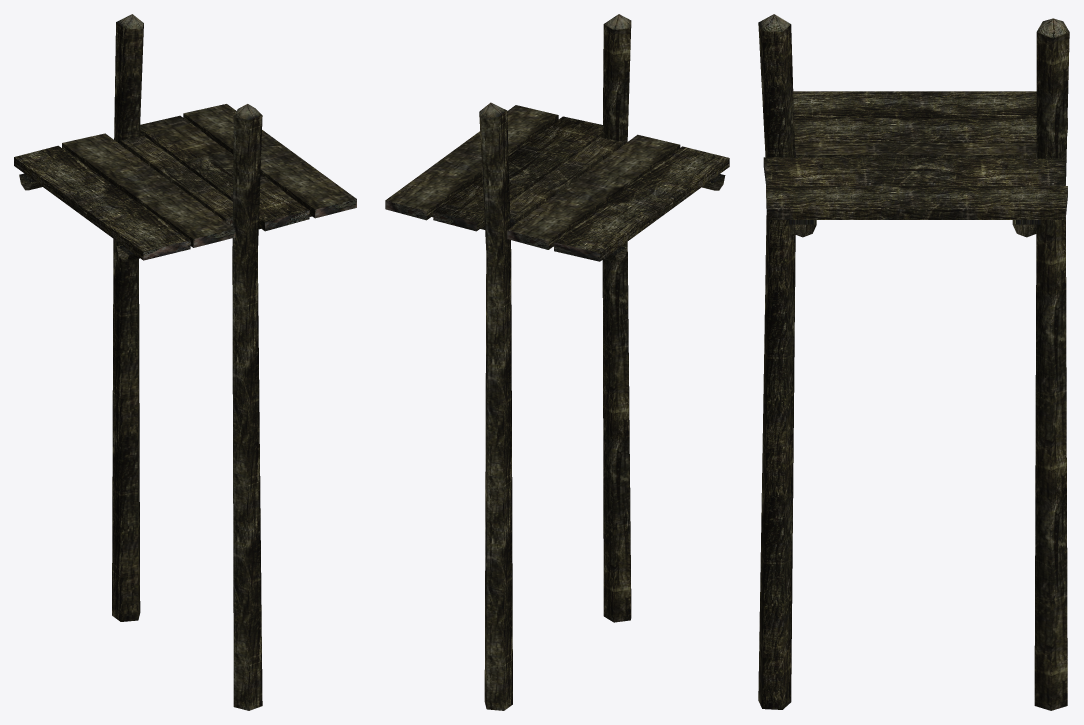
Rendered from ex_common_plat_cent.obj.
The picture shows the model from 3 angles, left to right: view 1: azimuth 30°, elevation 25°; view 2: azimuth 150°, elevation 25°; view 3: azimuth 270°, elevation 25°; orthographic projection. The views are drawn at different scales.
Parts seen in each view (by area): view 1: nifid_16-matrix_Tri_Ex_common_plat_Cent_3-lib, nifid_21-matrix_Tri_Ex_common_plat_Cent_4-lib, nifid_11-matrix_Tri_Ex_common_plat_Cent_2-lib; view 2: nifid_16-matrix_Tri_Ex_common_plat_Cent_3-lib, nifid_21-matrix_Tri_Ex_common_plat_Cent_4-lib, nifid_11-matrix_Tri_Ex_common_plat_Cent_2-lib; view 3: nifid_16-matrix_Tri_Ex_common_plat_Cent_3-lib, nifid_11-matrix_Tri_Ex_common_plat_Cent_2-lib, nifid_6-matrix_Tri_Ex_common_plat_Cent_1-lib.
Part boxes in pixels (x1,y1,x2,y2): nifid_16-matrix_Tri_Ex_common_plat_Cent_3-lib: [14, 22, 356, 710]; nifid_21-matrix_Tri_Ex_common_plat_Cent_4-lib: [143, 199, 356, 260]; nifid_11-matrix_Tri_Ex_common_plat_Cent_2-lib: [116, 14, 261, 119]; nifid_16-matrix_Tri_Ex_common_plat_Cent_3-lib: [385, 24, 729, 710]; nifid_21-matrix_Tri_Ex_common_plat_Cent_4-lib: [385, 200, 599, 261]; nifid_11-matrix_Tri_Ex_common_plat_Cent_2-lib: [479, 14, 631, 117]; nifid_16-matrix_Tri_Ex_common_plat_Cent_3-lib: [758, 23, 1069, 710]; nifid_11-matrix_Tri_Ex_common_plat_Cent_2-lib: [758, 14, 1069, 38]; nifid_6-matrix_Tri_Ex_common_plat_Cent_1-lib: [789, 224, 1040, 237].
Size of the model in its own units: 6.5 by 16.57 by 6.78.
